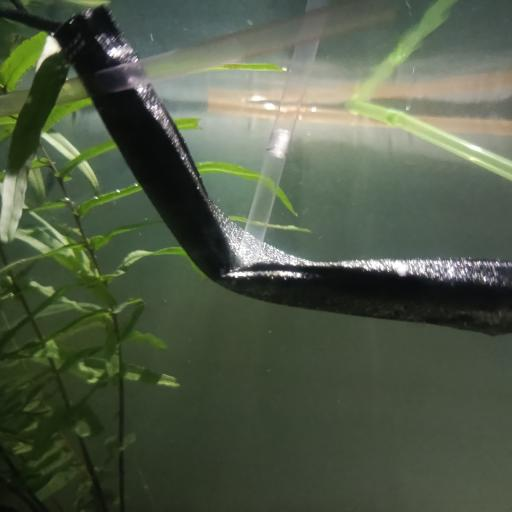mask: (1, 0, 512, 334)
plastic_straw: (0, 0, 403, 114), (246, 0, 322, 238), (347, 100, 512, 180), (202, 103, 512, 135)
